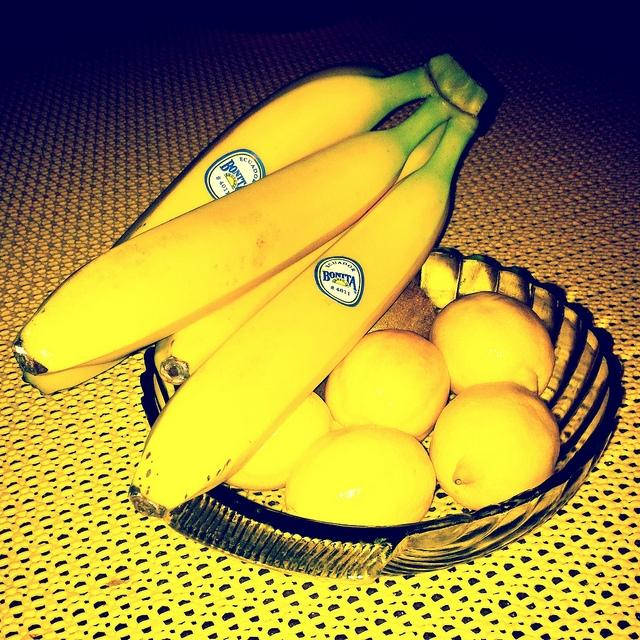banana: (128, 107, 478, 520), (12, 90, 452, 376), (154, 117, 450, 385), (106, 62, 437, 250)
lemon: (429, 381, 560, 511), (284, 424, 439, 526), (326, 330, 450, 443), (428, 291, 556, 397)
